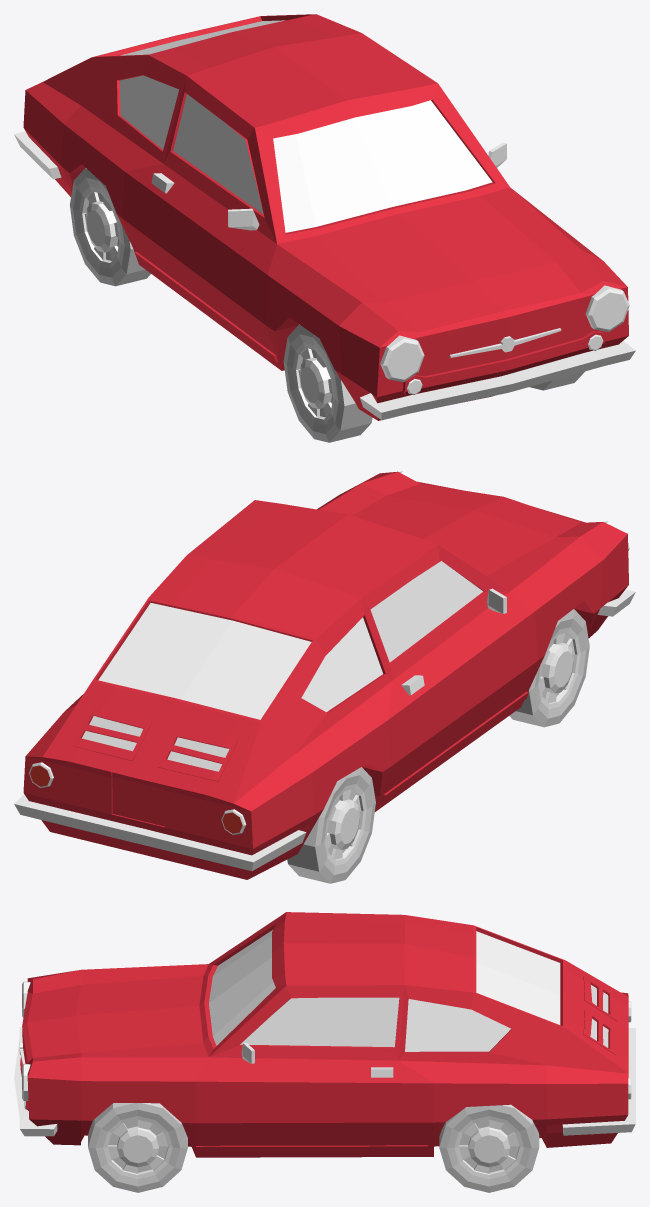
Rendered from seat 850 cuope.fbx.
The picture shows the model from 3 angles, top to bottom: view 1: azimuth 30°, elevation 25°; view 2: azimuth 150°, elevation 25°; view 3: azimuth 270°, elevation 25°; orthographic projection. The views are drawn at different scales.
Visible parts, largest first — view 1: seat 850, wheel.002, wheel.001; view 2: seat 850, wheel.001, wheel.002; view 3: seat 850, wheel, wheel.003.
Boxes of the visible parts, x1,y1,x2,y2 form: seat 850: [14, 14, 635, 420]; wheel.002: [283, 324, 372, 442]; wheel.001: [70, 168, 150, 286]; seat 850: [14, 471, 635, 879]; wheel.001: [287, 767, 375, 883]; wheel.002: [509, 609, 589, 727]; seat 850: [14, 912, 635, 1157]; wheel: [88, 1103, 187, 1192]; wheel.003: [439, 1104, 539, 1192].
Size of the model in its own units: 87.43 by 73.23 by 206.
